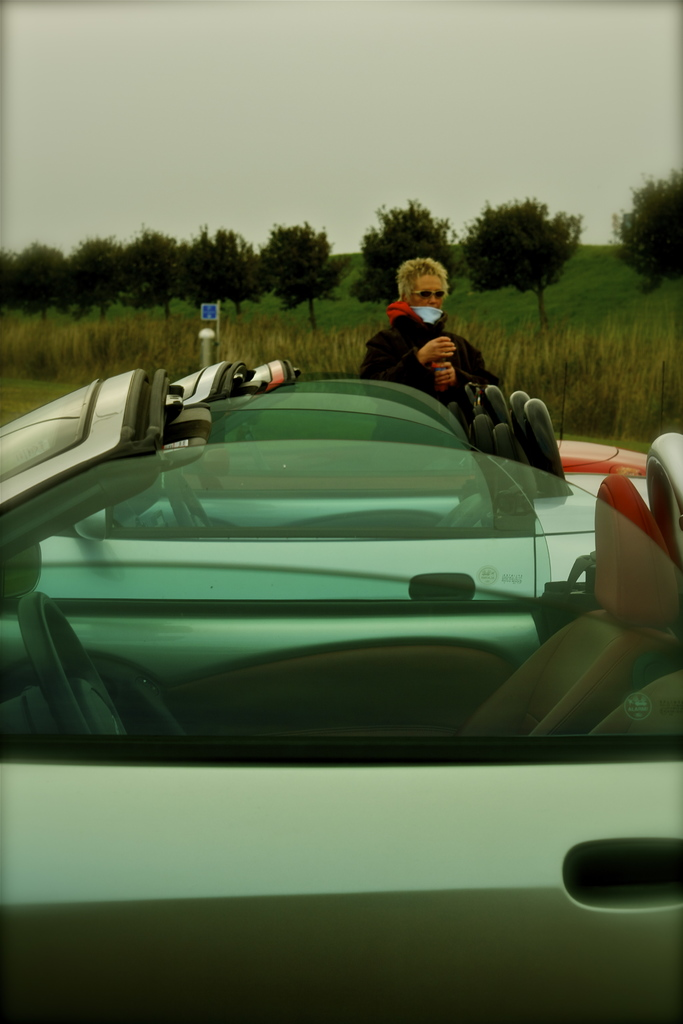Car: (0, 368, 682, 1023), (37, 357, 648, 609), (163, 361, 645, 496)
